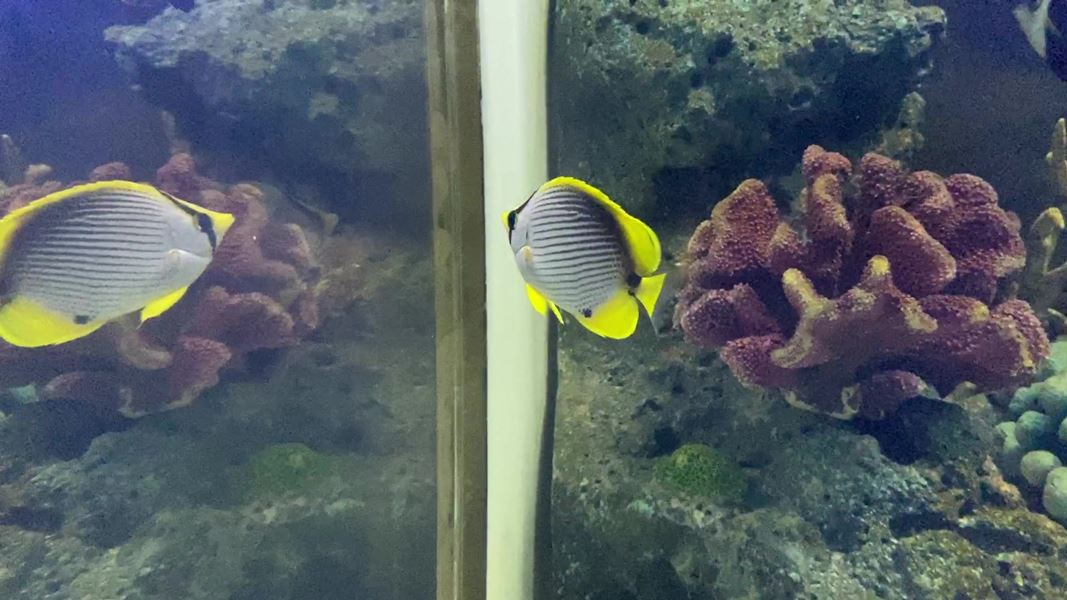Black-backed butterflyfish: (493, 168, 698, 353)
